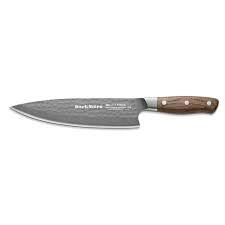Knife: (8, 95, 219, 129)
